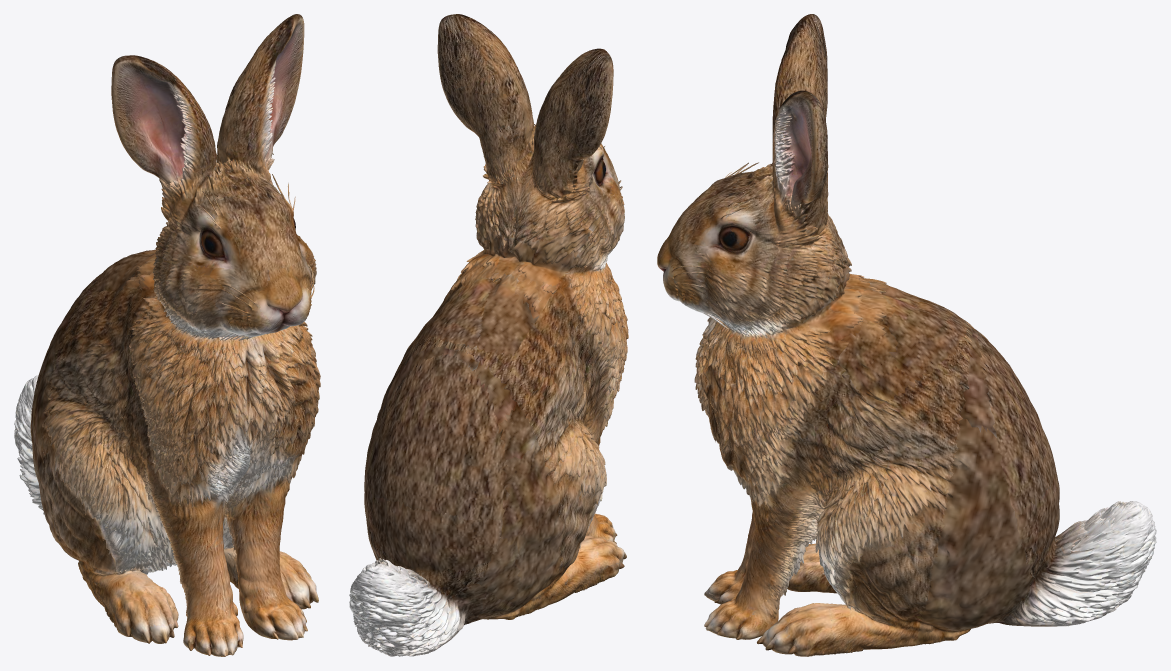
Rendered from rabbit-light.glb.
3 renders of one model, left to right at view 1: azimuth 30°, elevation 25°; view 2: azimuth 150°, elevation 25°; view 3: azimuth 270°, elevation 25°, orthographic. The views are drawn at different scales.
Parts seen in each view (by area): view 1: rabbit; view 2: rabbit; view 3: rabbit.
Boxes of the visible parts, x1,y1,x2,y2 form: rabbit: (14, 14, 320, 656); rabbit: (349, 14, 628, 656); rabbit: (657, 14, 1156, 656).
Bounding box in the file's own units: 0.1801 × 0.45 × 0.3642.
1 material, 1 textured.
